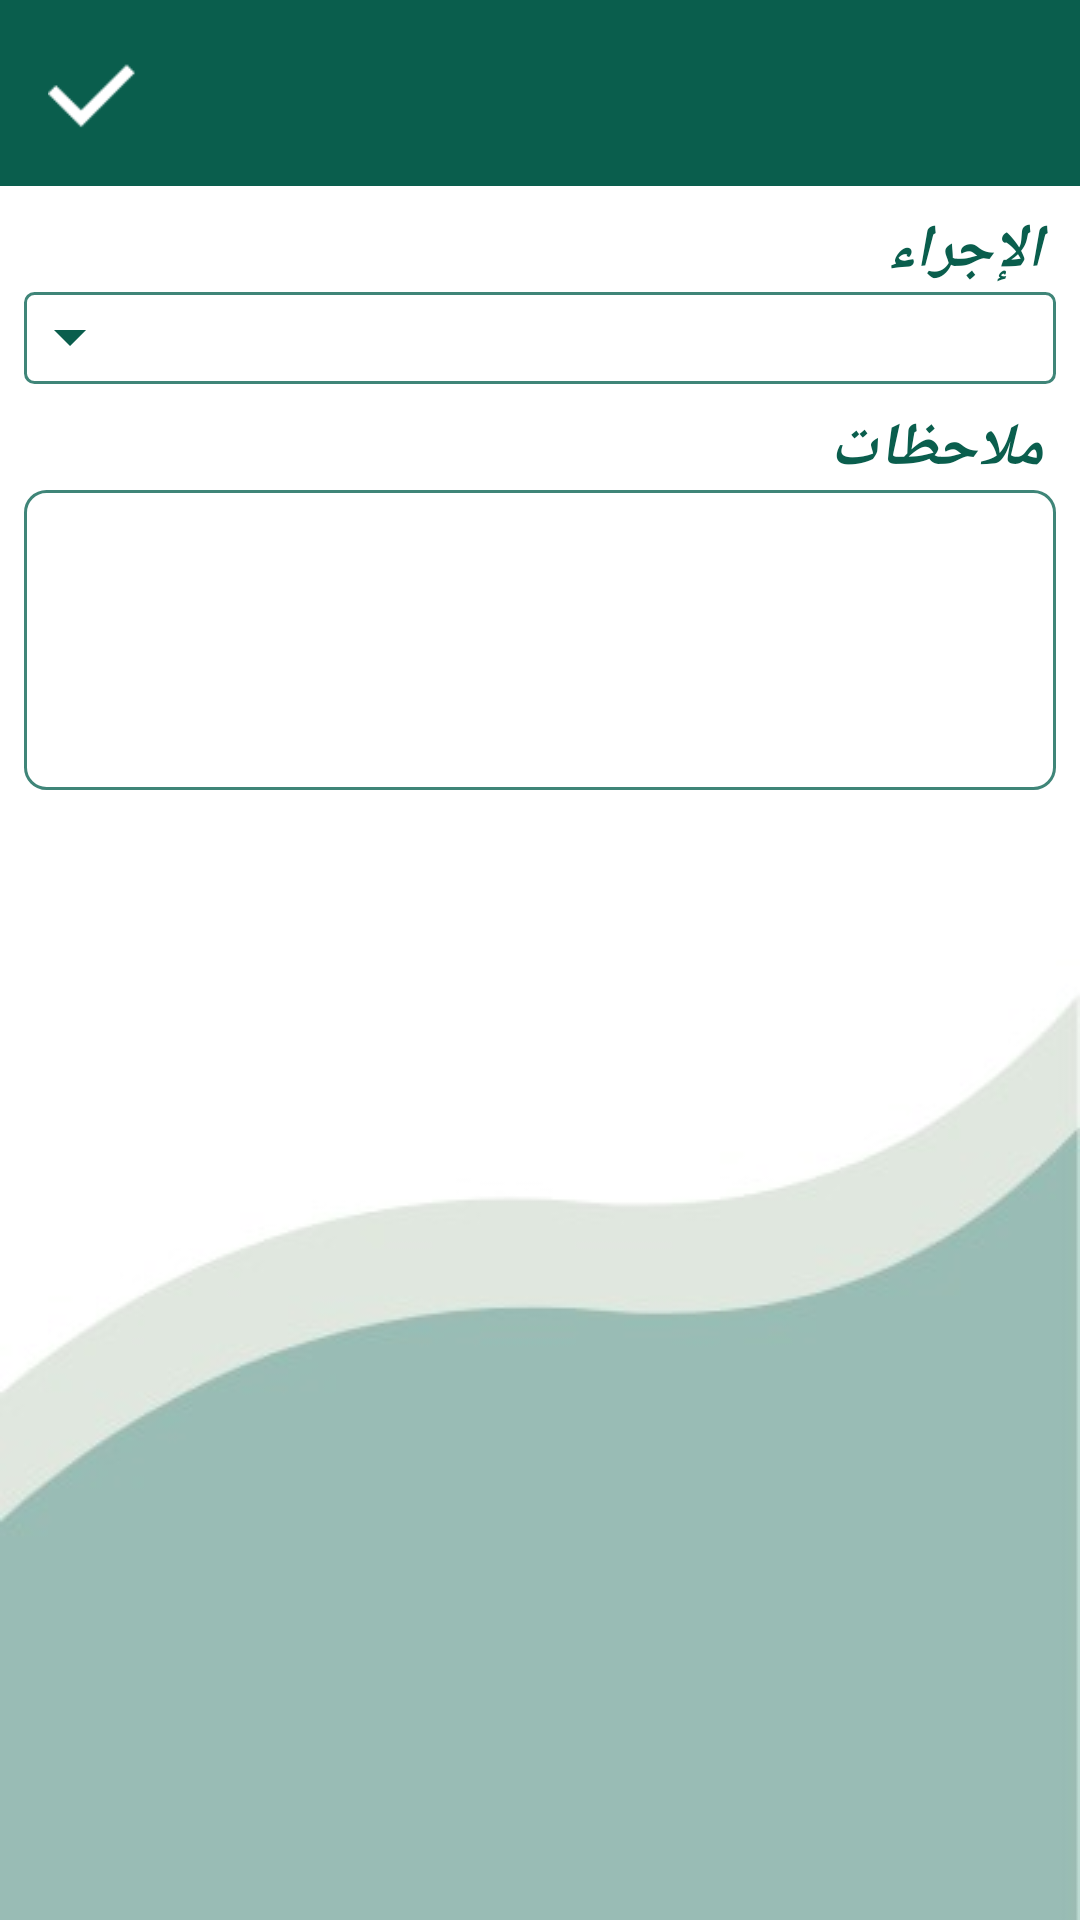

Where icons sit on this 1080*1920 app screen, as bbox=[x1, y1, x2, y2]:
right: bbox=[48, 64, 135, 127]
